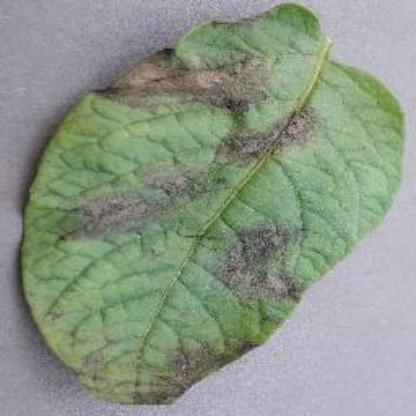Late-Blight: (19, 2, 406, 404)
